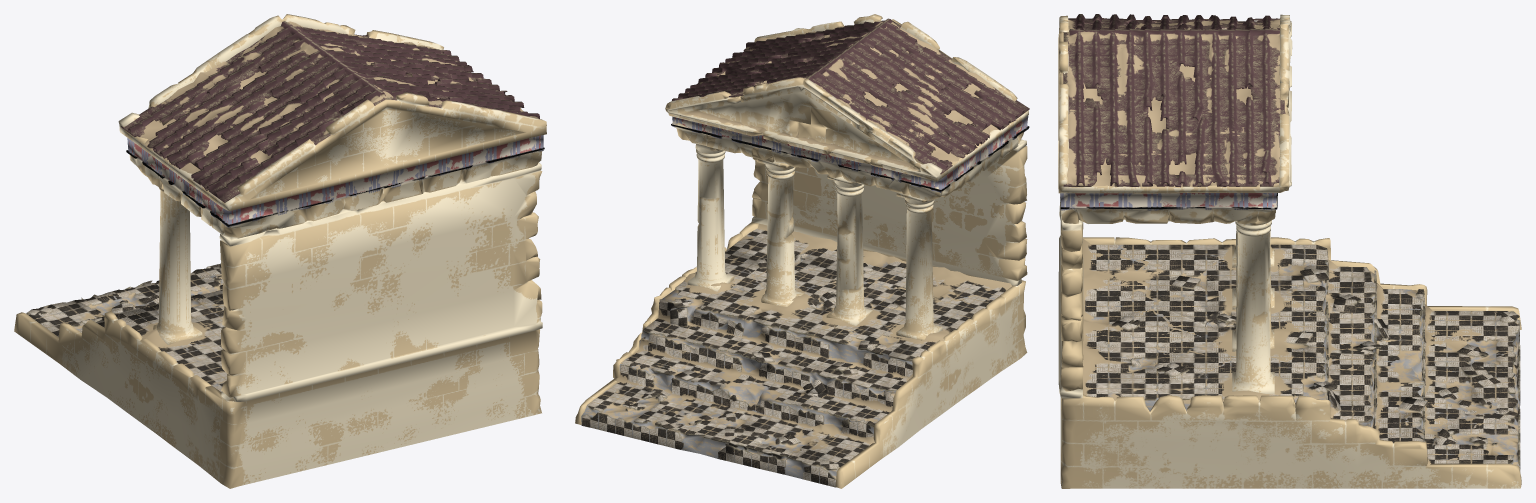
Rendered from TempleForToon.fbx.
3 renders of one model, left to right at view 1: azimuth 30°, elevation 25°; view 2: azimuth 150°, elevation 25°; view 3: azimuth 270°, elevation 25°, orthographic. The views are drawn at different scales.
Parts seen in each view (by area): view 1: LowPoly-WallSide, LowPoly-Roof, LowPoly-RoofTiles, LowPoly-Stairs, LowPoly-Pillars, LowPoly-RoofSand; view 2: LowPoly-Stairs, LowPoly-WallSide, LowPoly-RoofTiles, LowPoly-Roof, LowPoly-Pillars, LowPoly-RoofSand; view 3: LowPoly-Stairs, LowPoly-WallSide, LowPoly-RoofTiles, LowPoly-Roof, LowPoly-Pillars, LowPoly-RoofSand.
Part boxes in pixels (bbox=[...]): LowPoly-WallSide: bbox=[14, 162, 542, 488]; LowPoly-Roof: bbox=[118, 14, 546, 240]; LowPoly-RoofTiles: bbox=[121, 21, 539, 202]; LowPoly-Stairs: bbox=[26, 263, 226, 391]; LowPoly-Pillars: bbox=[153, 187, 202, 344]; LowPoly-RoofSand: bbox=[137, 45, 521, 190]; LowPoly-Stairs: bbox=[581, 223, 1011, 487]; LowPoly-WallSide: bbox=[575, 140, 1027, 488]; LowPoly-RoofTiles: bbox=[672, 18, 1029, 174]; LowPoly-Roof: bbox=[665, 14, 1029, 200]; LowPoly-Pillars: bbox=[687, 144, 942, 340]; LowPoly-RoofSand: bbox=[718, 35, 1009, 161]; LowPoly-Stairs: bbox=[1082, 239, 1520, 471]; LowPoly-WallSide: bbox=[1058, 202, 1521, 488]; LowPoly-RoofTiles: bbox=[1063, 14, 1285, 187]; LowPoly-Roof: bbox=[1058, 14, 1292, 224]; LowPoly-Pillars: bbox=[1232, 220, 1274, 393]; LowPoly-RoofSand: bbox=[1068, 21, 1278, 186].
Bounding box in the file's own units: 2.99 × 3.48 × 3.18.
Materials: 2 (2 with a texture image).
